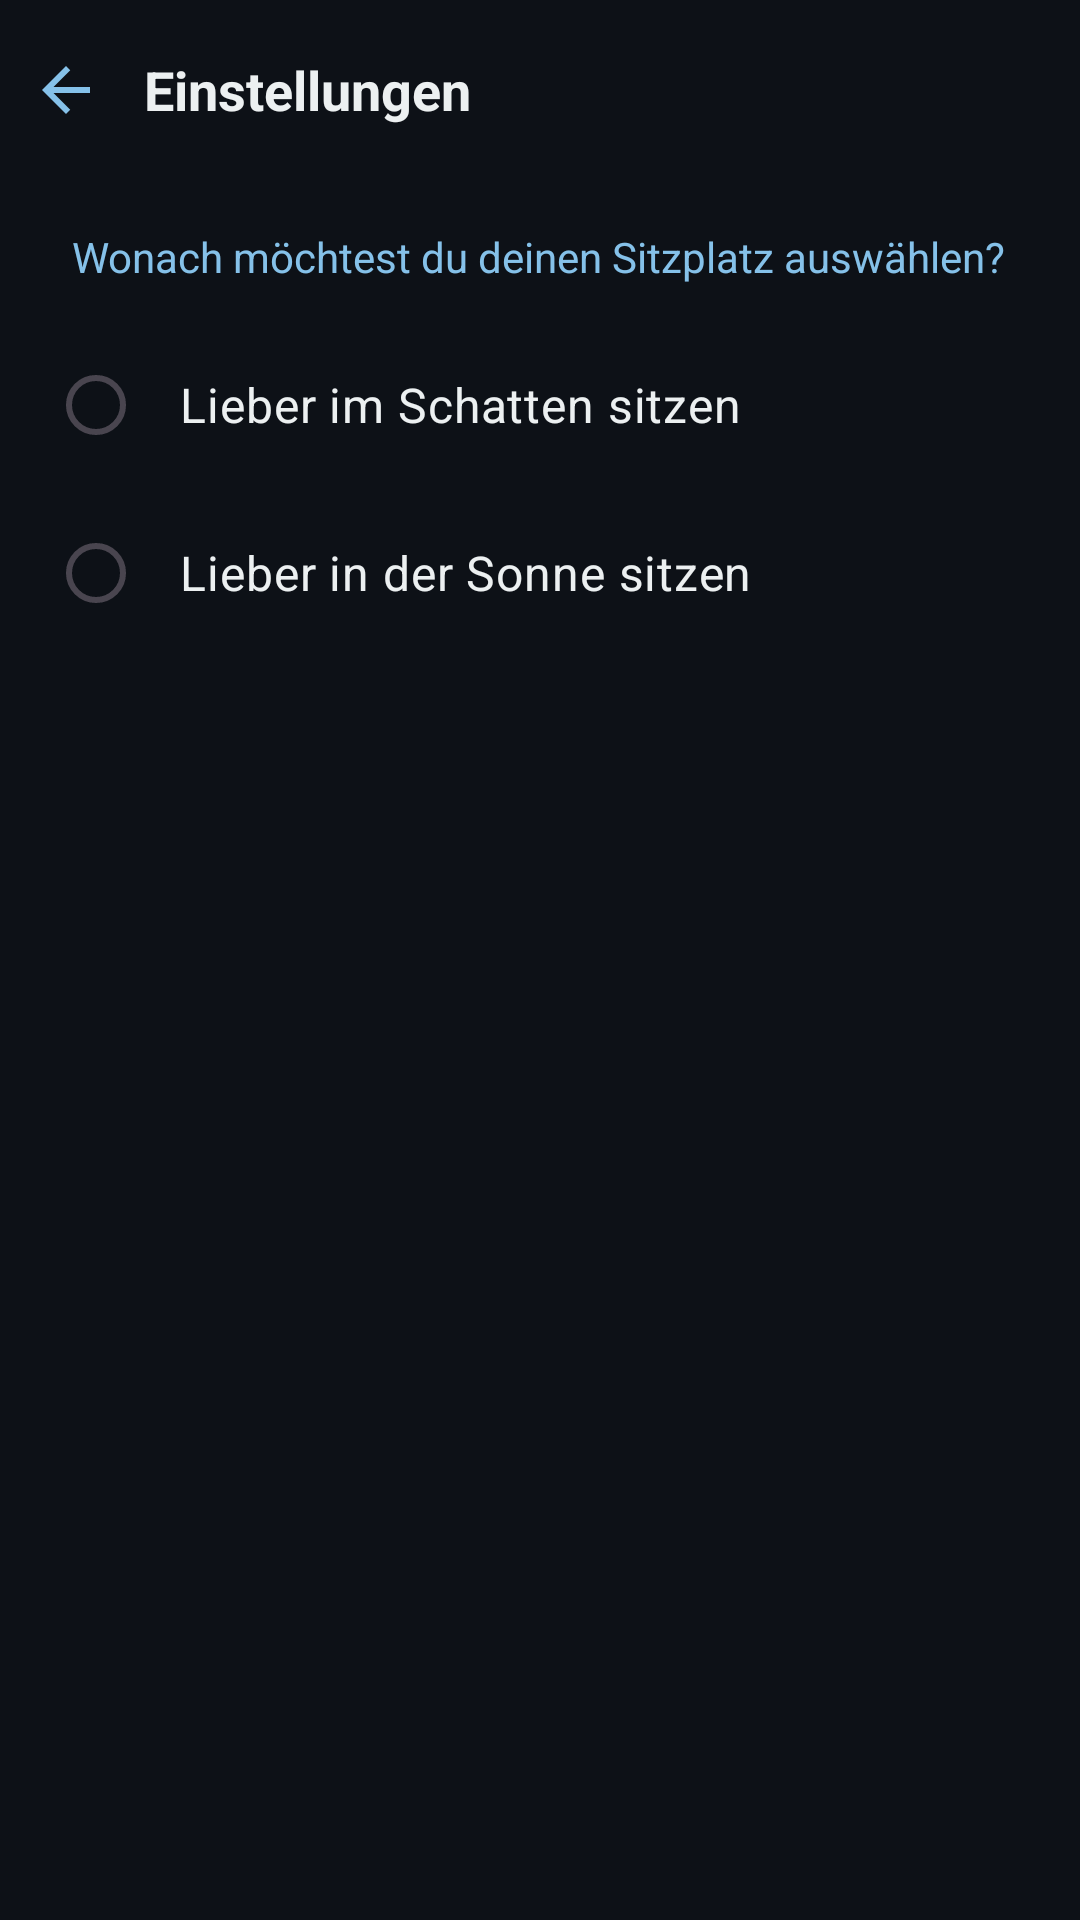

Named icons in this screenshot (1080×1920) and their bounding boxes, (x1,y1,x2,y2):
Zurück: (42,66,90,114)
